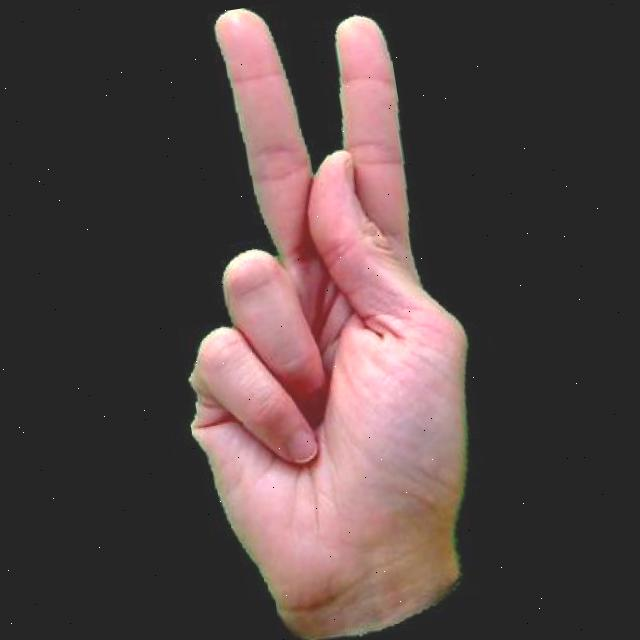k: (104, 0, 531, 640)
